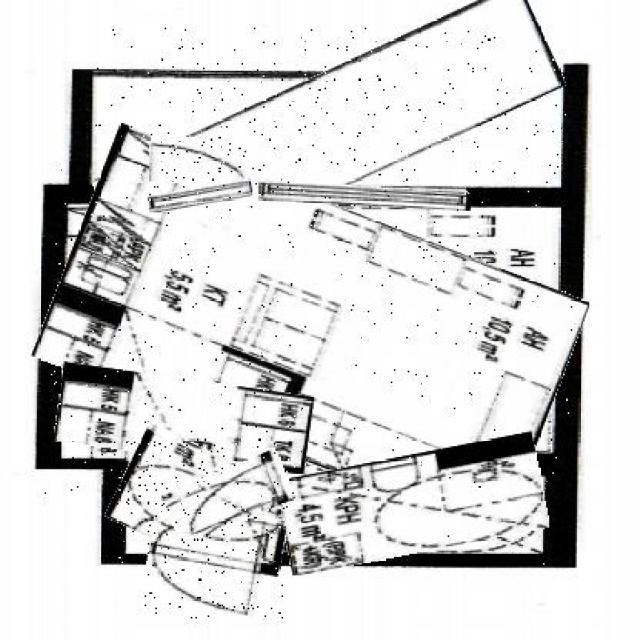door: (143, 504, 283, 618), (164, 458, 294, 534), (151, 137, 246, 186)
window: (258, 185, 471, 209), (148, 183, 252, 209)
zone: (44, 163, 576, 495), (94, 28, 566, 237), (279, 443, 546, 565), (55, 371, 312, 466), (112, 438, 285, 570)
